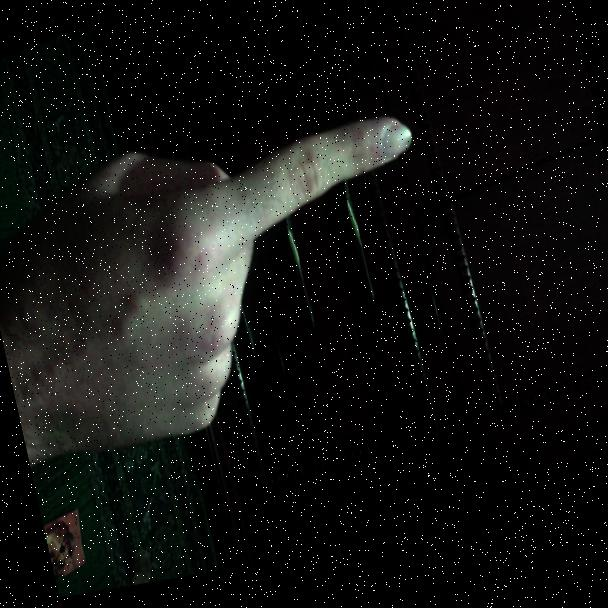one: (0, 26, 477, 523)
